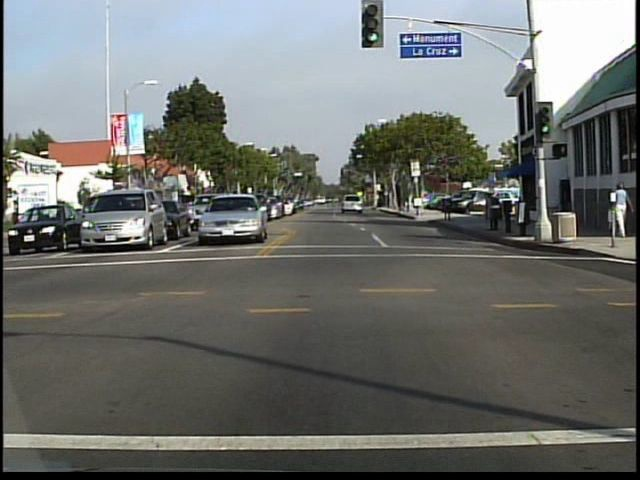person: (607, 176, 635, 242)
